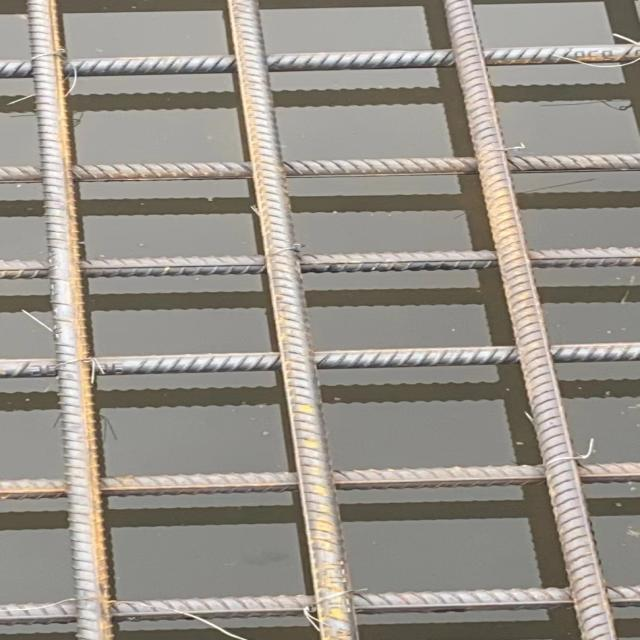ribbed bar: (441, 0, 617, 639), (226, 0, 358, 639), (24, 0, 115, 639), (0, 586, 639, 625), (0, 462, 639, 500), (0, 343, 639, 378), (0, 43, 639, 77), (0, 245, 639, 279), (0, 153, 639, 181)
